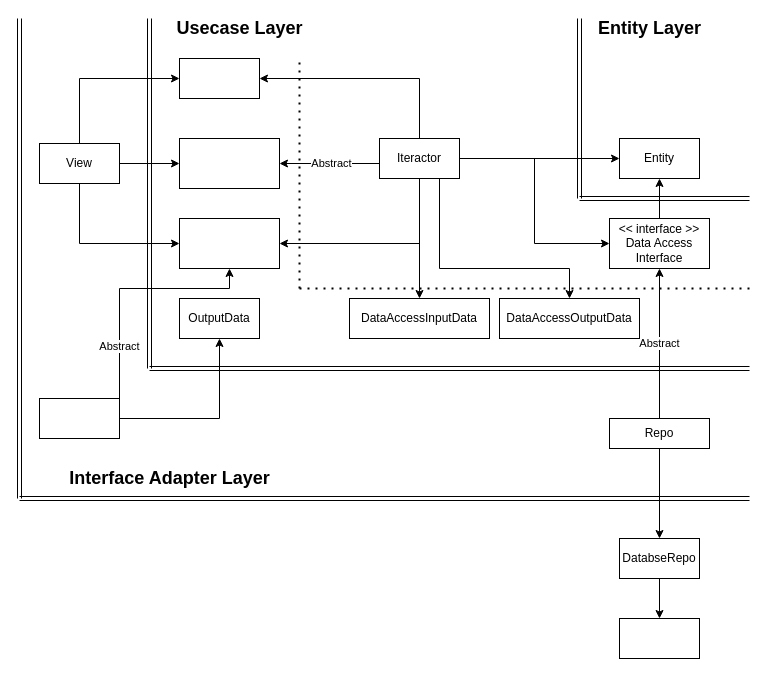
Some shapes in this 769 by 676 pixel diagram are drawn without their labels. The centre of each missing label's shape, as x and y in pixels:
<< interface >> Input Boundary: (x=229, y=163)
<< interface >> Output Boundary: (x=229, y=243)
Database: (x=659, y=638)
InputData: (x=219, y=78)
Presenter: (x=79, y=418)
